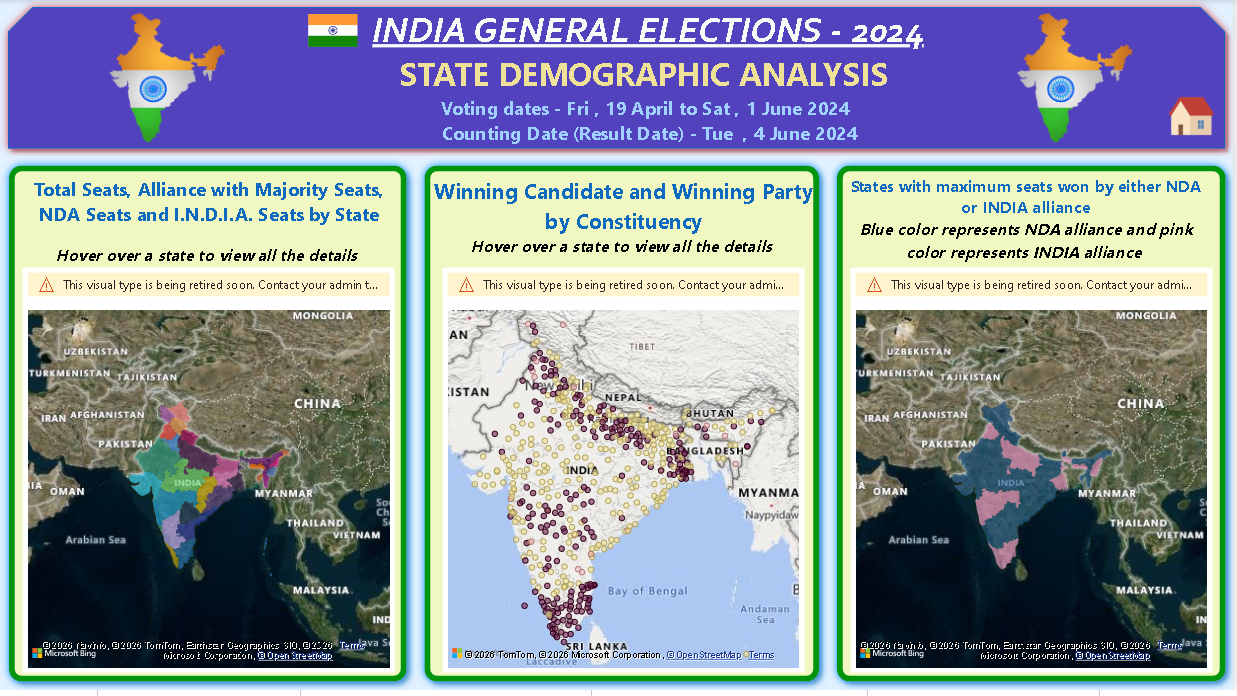

What the dashboard file says about the page in this screenshot:
{"tool":"powerbi","page":{"name":"State Demographic Analysis","canvas":[1250,700],"ordinal":2},"visuals":[{"type":"shape","box":[0,0,1249.1,159.6],"z":0},{"type":"textbox","box":[21.3,3,1206.5,159.6],"z":1000},{"type":"shape","box":[0,159.6,420.9,541],"z":2000},{"type":"cardVisual","fields":{"Data":["CountNonNull(partywise_results.Party)"]},"box":[0,610.9,171.7,89.7],"z":3000},{"type":"image","box":[311.5,15.2,51.7,33.4],"z":4000},{"type":"image","box":[1004.4,13.7,165.6,132.2],"z":5000},{"type":"image","box":[85.1,13.7,165.6,132.2],"z":6000},{"type":"shape","box":[420.9,159.6,417.9,541],"z":7000},{"type":"shape","box":[838.8,159.6,411.8,541],"z":8000},{"type":"textbox","box":[12.2,173.2,399.6,112.4],"z":9000},{"type":"filledMap","fields":{"Category":["states.State"],"Series":["states.State"]},"box":[22.8,272,376.9,410.3],"z":10000},{"type":"textbox","box":[434.6,173.2,395.1,98.8],"z":11000},{"type":"map","fields":{"Category":["states.State","statewise_results.Constituency"],"Series":["constituencywise_results.Party Alliance(results)"]},"box":[448.3,272,366.2,410.3],"z":12000},{"type":"textbox","box":[851,173.2,376.9,112.4],"z":13000},{"type":"filledMap","fields":{"Category":["states.State"],"Series":["states.Winning Alliance (legend)"]},"box":[861.6,272,366.2,410.3],"z":14000},{"type":"image","box":[1164,92.7,85.1,53.2],"z":15000}]}

Visuals, with their boxes in screenshot pixels (x1, y1, x2, y2), scaled from the page's 1250x700 canvas onto the 1237x696 screenshot:
shape: Rect(0, 0, 1236, 159)
textbox: Rect(21, 3, 1215, 162)
shape: Rect(0, 159, 417, 695)
cardVisual - CountNonNull(partywise_results.Party): Rect(0, 607, 170, 695)
image: Rect(308, 15, 359, 48)
image: Rect(994, 14, 1158, 145)
image: Rect(84, 14, 248, 145)
shape: Rect(417, 159, 830, 695)
shape: Rect(830, 159, 1236, 695)
textbox: Rect(12, 172, 408, 284)
filledMap - states.State x states.State: Rect(23, 270, 396, 678)
textbox: Rect(430, 172, 821, 270)
map - states.State x statewise_results.Constituency: Rect(444, 270, 806, 678)
textbox: Rect(842, 172, 1215, 284)
filledMap - states.State x states.Winning Alliance (legend): Rect(853, 270, 1215, 678)
image: Rect(1152, 92, 1236, 145)
